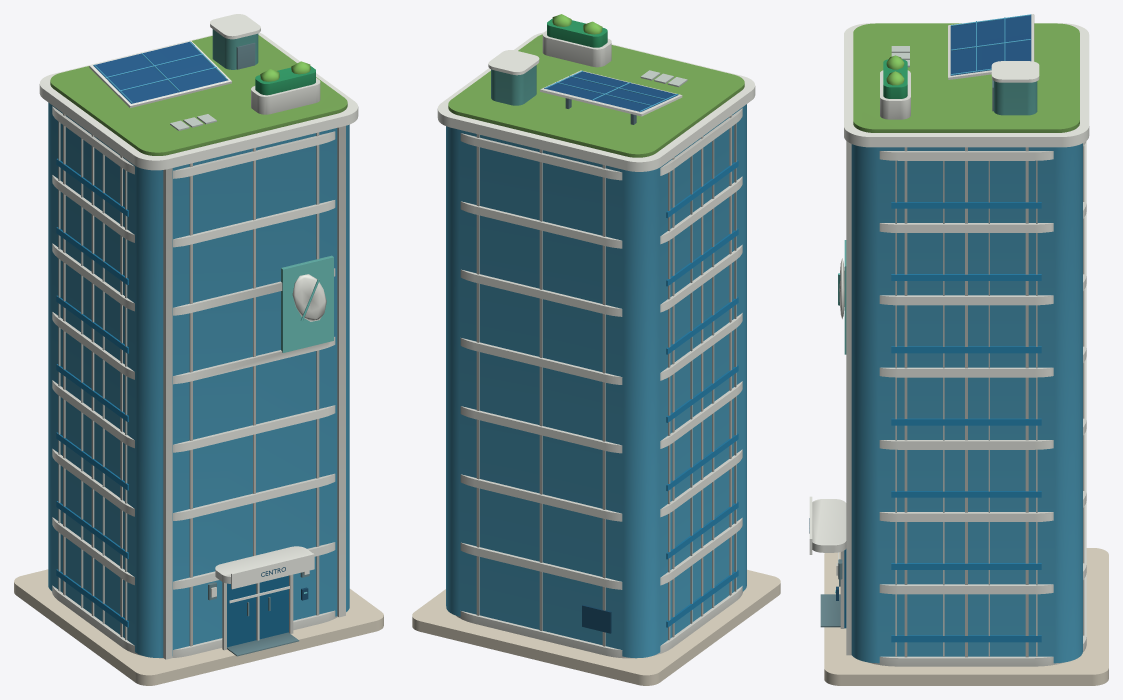
File: office-glass.glb
The picture shows the model from 3 angles, left to right: view 1: azimuth 30°, elevation 25°; view 2: azimuth 150°, elevation 25°; view 3: azimuth 270°, elevation 25°; orthographic projection. The views are drawn at different scales.
Visible parts, largest first — view 1: continuous blue glazing, glass vertical mullion, green roof, tower foundation, recessed entrance, roof access, photovoltaic cells, curtain wall secondary mullion, roof access hatch, planter foliage; view 2: continuous blue glazing, glass vertical mullion, green roof, tower foundation, curtain wall secondary mullion, recessed entrance, photovoltaic cells, roof access, planter foliage, identity CENTRO; view 3: continuous blue glazing, glass vertical mullion, green roof, tower foundation, recessed entrance, photovoltaic cells, curtain wall secondary mullion, roof access, roof access hatch, planter foliage.
Part boxes in pixels (x1=…): continuous blue glazing: x1=48, y1=41, x2=349, y2=657; glass vertical mullion: x1=39, y1=14, x2=358, y2=659; green roof: x1=50, y1=35, x2=347, y2=155; tower foundation: x1=14, y1=569, x2=383, y2=685; recessed entrance: x1=56, y1=158, x2=288, y2=647; roof access: x1=212, y1=29, x2=333, y2=352; photovoltaic cells: x1=93, y1=41, x2=228, y2=103; curtain wall secondary mullion: x1=58, y1=121, x2=127, y2=639; roof access hatch: x1=208, y1=42, x2=309, y2=656; planter foliage: x1=255, y1=66, x2=315, y2=95; continuous blue glazing: x1=446, y1=70, x2=746, y2=658; glass vertical mullion: x1=437, y1=30, x2=755, y2=658; green roof: x1=448, y1=34, x2=744, y2=157; tower foundation: x1=412, y1=569, x2=780, y2=685; curtain wall secondary mullion: x1=668, y1=123, x2=736, y2=640; recessed entrance: x1=666, y1=160, x2=738, y2=627; photovoltaic cells: x1=544, y1=71, x2=678, y2=111; roof access: x1=491, y1=65, x2=536, y2=105; planter foliage: x1=547, y1=18, x2=607, y2=47; identity CENTRO: x1=582, y1=604, x2=611, y2=633; continuous blue glazing: x1=851, y1=14, x2=1082, y2=663; glass vertical mullion: x1=809, y1=14, x2=1089, y2=666; green roof: x1=853, y1=23, x2=1079, y2=132; tower foundation: x1=824, y1=548, x2=1108, y2=685; recessed entrance: x1=844, y1=202, x2=1041, y2=642; photovoltaic cells: x1=950, y1=14, x2=1031, y2=75; curtain wall secondary mullion: x1=895, y1=160, x2=1037, y2=656; roof access: x1=838, y1=81, x2=1037, y2=354; roof access hatch: x1=820, y1=80, x2=993, y2=627; planter foliage: x1=883, y1=59, x2=907, y2=98.
Size of the model in its own units: 2.9 by 6.25 by 2.9.
